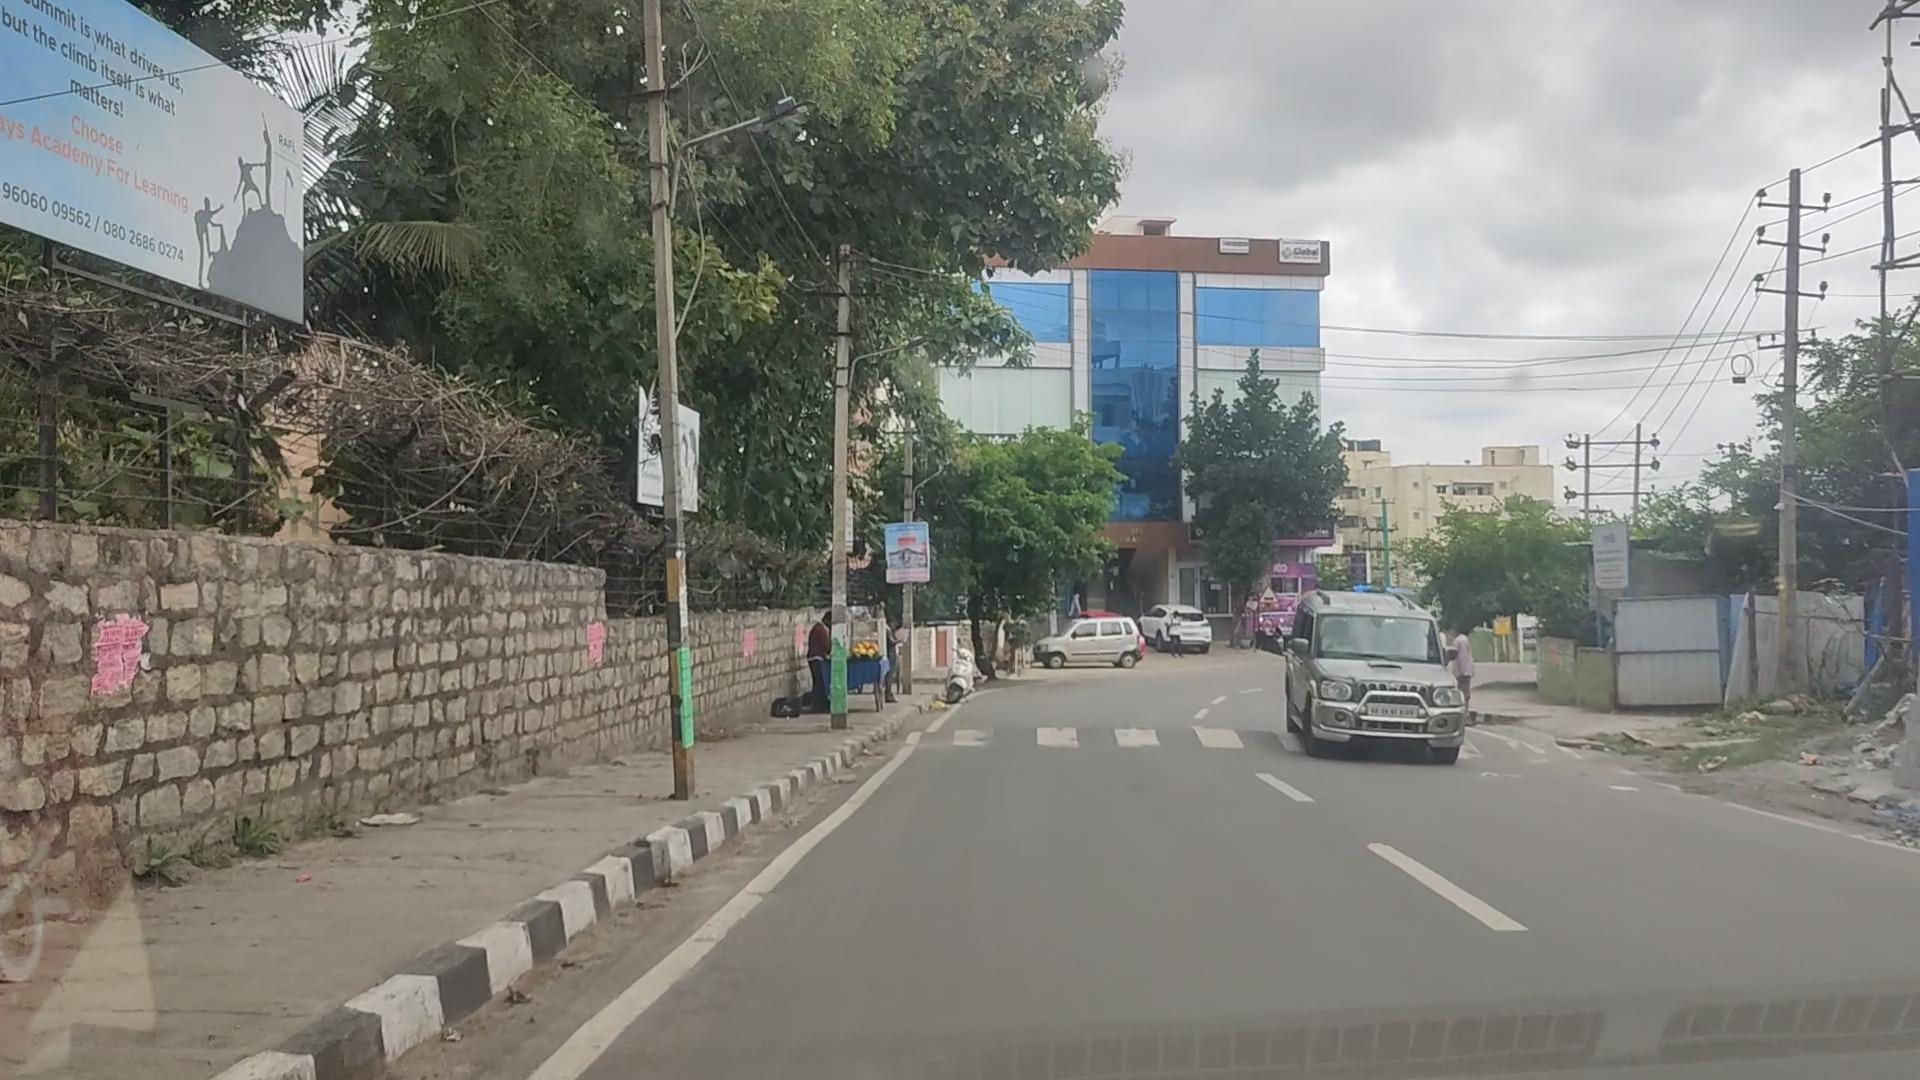LMV: (1283, 599, 1473, 767)
SpeedBump: (931, 711, 1279, 744)
